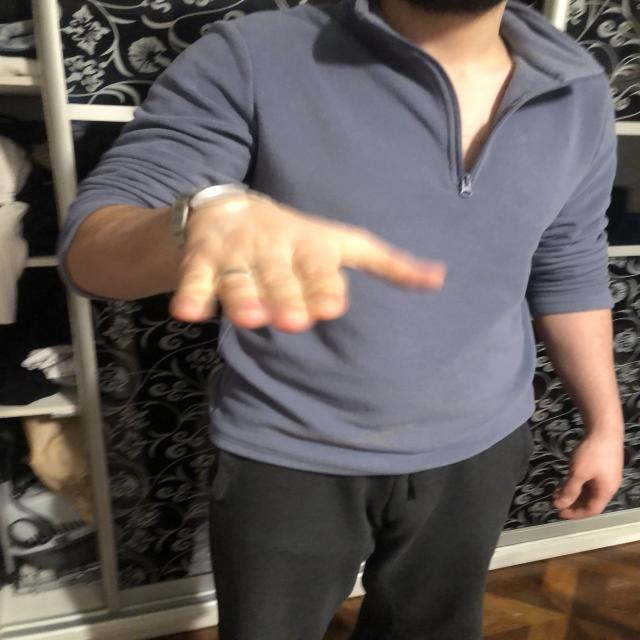paper: (170, 220, 450, 330)
